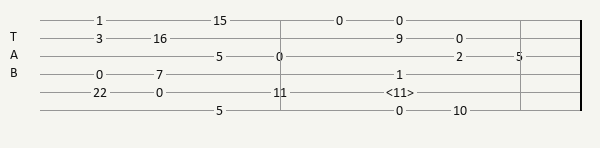0: (96, 68, 107, 81), (156, 86, 167, 99), (276, 50, 287, 63), (336, 14, 347, 27), (396, 14, 407, 27), (396, 104, 407, 117), (456, 32, 467, 45)
1: (96, 14, 107, 27), (396, 68, 407, 81)
10: (453, 104, 471, 117)
11: (273, 86, 291, 99)
15: (213, 14, 231, 27)
16: (153, 32, 171, 45)
2: (456, 50, 467, 63)
22: (93, 86, 111, 99)
3: (96, 32, 107, 45)
5: (216, 104, 227, 117), (216, 50, 227, 63), (516, 50, 527, 63)
7: (156, 68, 167, 81)
9: (396, 32, 407, 45)
harmonic: (386, 86, 418, 99)
